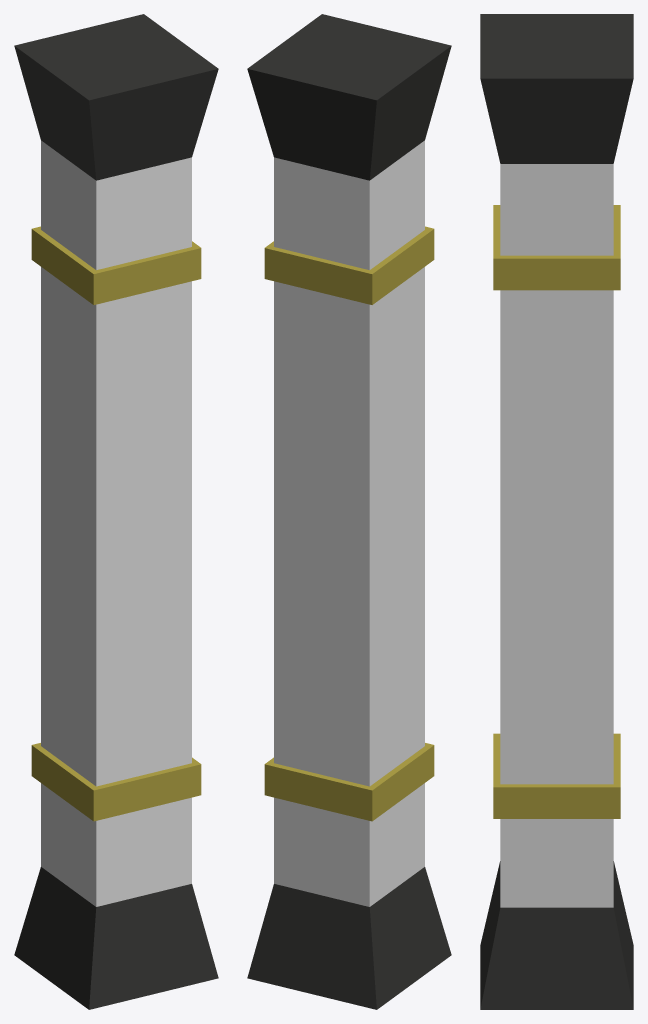
Rendered from ColunaLowPoly.fbx.
The picture shows the model from 3 angles, left to right: view 1: azimuth 30°, elevation 25°; view 2: azimuth 150°, elevation 25°; view 3: azimuth 270°, elevation 25°; orthographic projection. The views are drawn at different scales.
Visible parts, largest first — view 1: Cube; view 2: Cube; view 3: Cube.
Boxes of the visible parts, left/top/right/bottom form: Cube: left=14, top=14, right=218, bottom=1009; Cube: left=247, top=14, right=451, bottom=1009; Cube: left=480, top=14, right=633, bottom=1009.
Bounding box in the file's own units: 203 × 1360 × 203.
